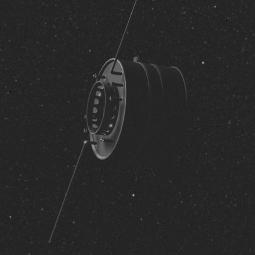double_start: (72, 55, 200, 172)
